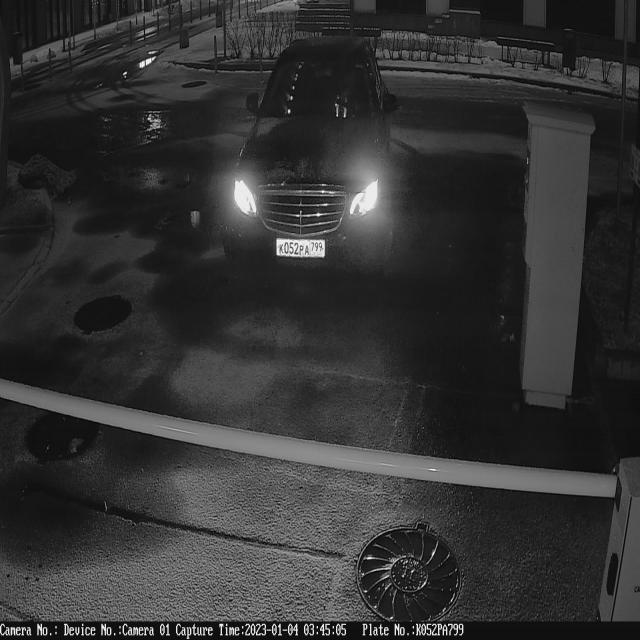car-plate-numbers: (274, 234, 328, 265)
